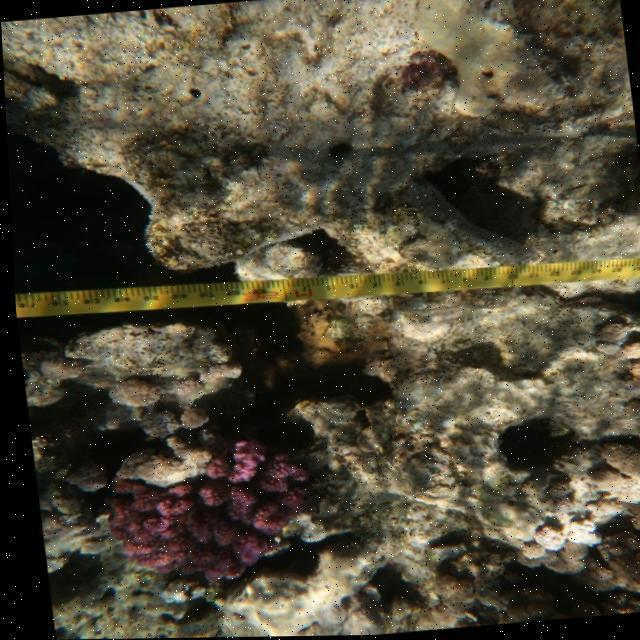Healthy Coral: (90, 437, 321, 588)
